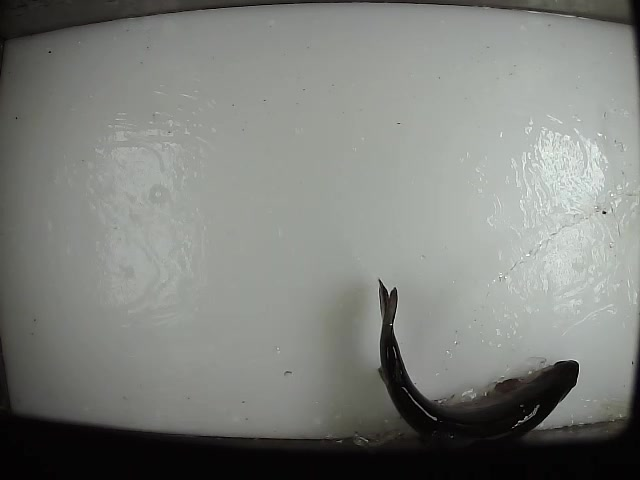fish: (373, 278, 581, 471)
